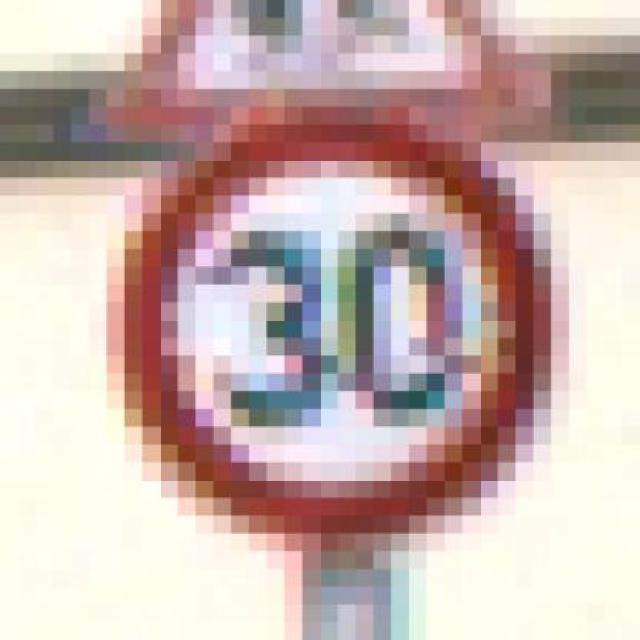Speed Limit 30 KMPh: (53, 71, 622, 551)
